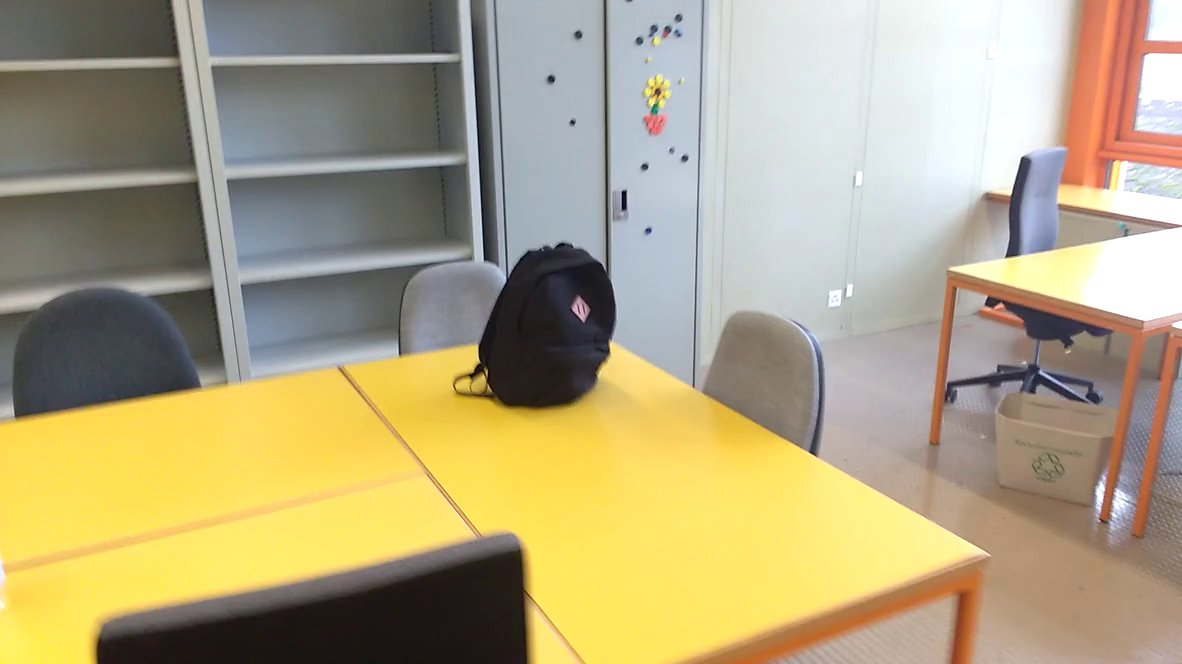bag: (450, 237, 624, 412)
box: (987, 386, 1126, 512)
chair: (943, 130, 1128, 427), (5, 279, 215, 421), (693, 295, 843, 486), (382, 255, 552, 372)
